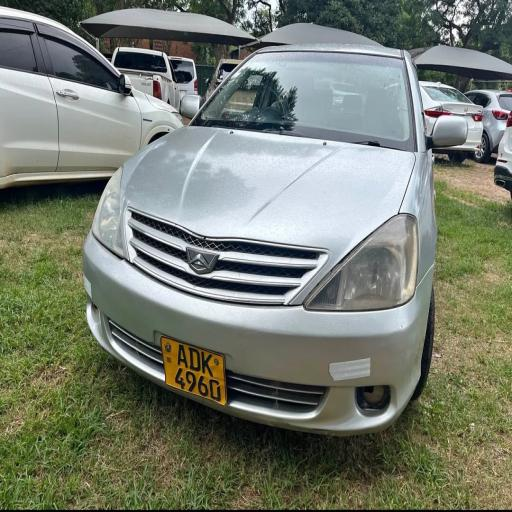number-plates: (162, 335, 227, 404)
